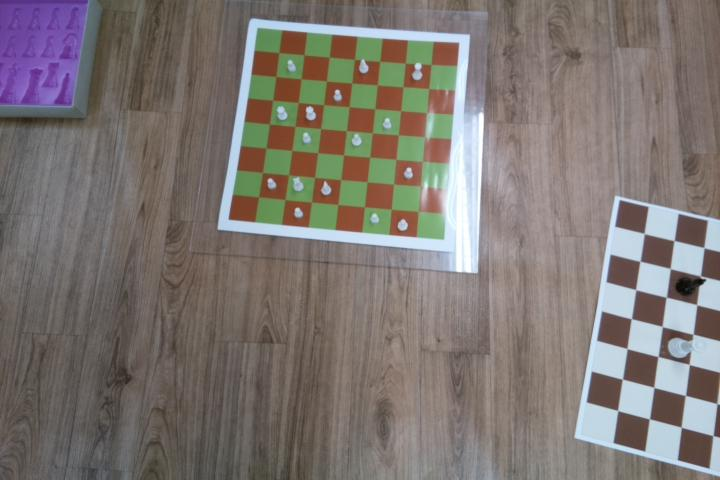chessboard-detect: (229, 28, 460, 240)
